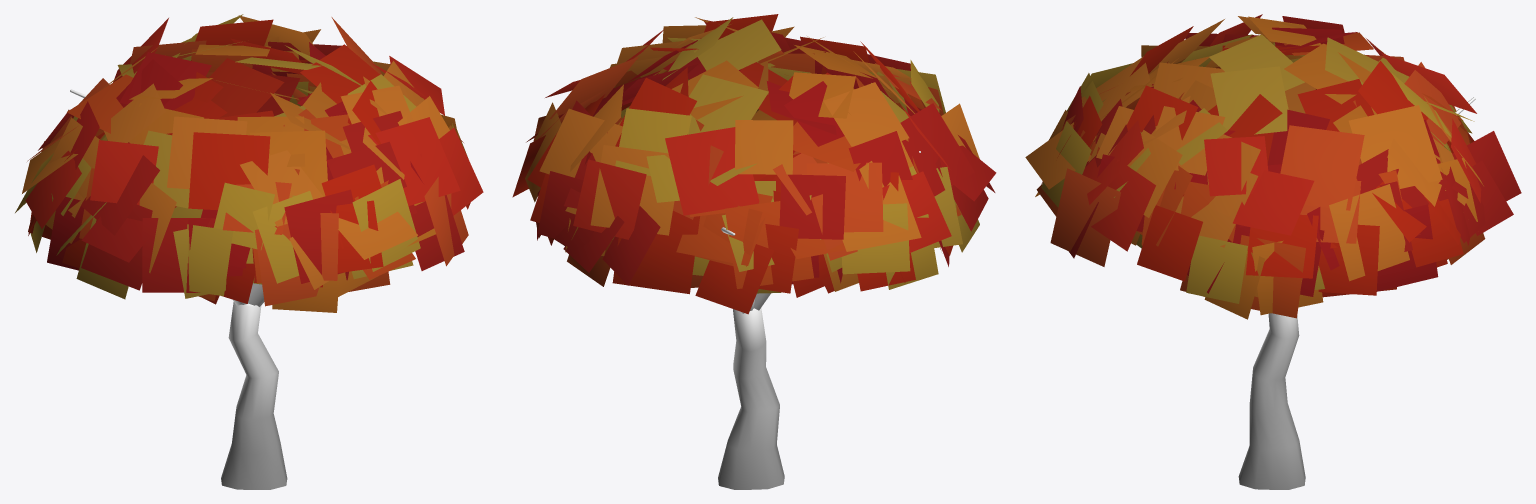
File: maple_0.glb
The picture shows the model from 3 angles, left to right: view 1: azimuth 30°, elevation 25°; view 2: azimuth 150°, elevation 25°; view 3: azimuth 270°, elevation 25°; orthographic projection.
Visible parts, largest first — view 1: maple_3; view 2: maple_3; view 3: maple_3.
Boxes of the visible parts, <box> form: maple_3: <box>15,14,483,489</box>; maple_3: <box>512,14,996,489</box>; maple_3: <box>1025,14,1521,489</box>.
Size of the model in its own units: 6.49 by 6.36 by 6.63.
